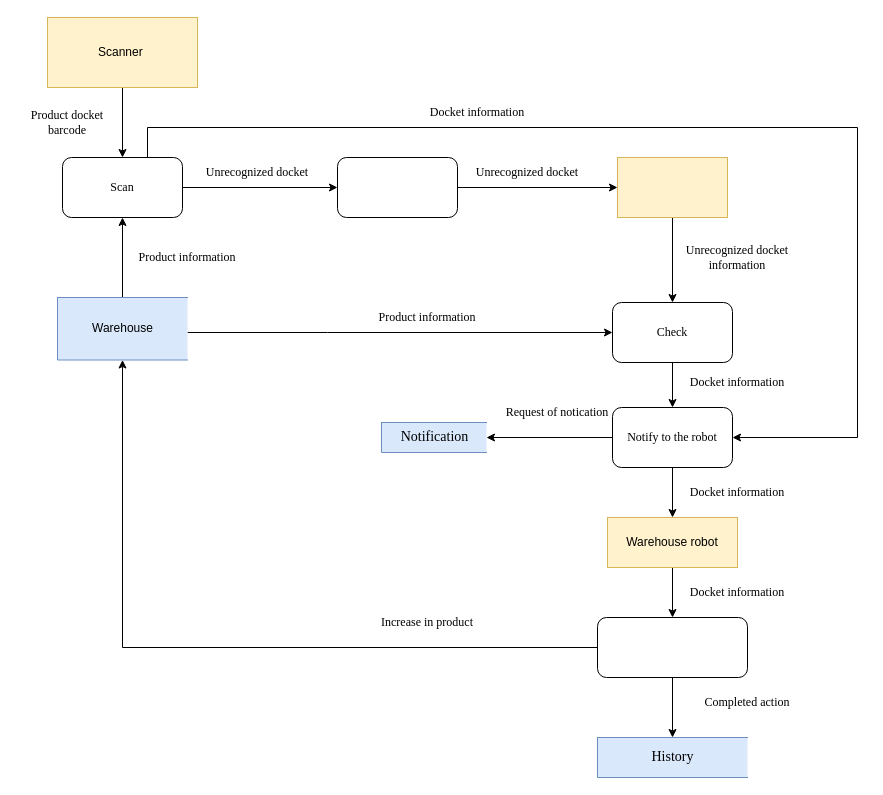
Image size: 883x795. Some labels were removed from this diagram. Each missing label, with the centre of its shape:
Fill docket on warehouse shelf: (672,647)
Notify: (397,187)
Technical Department: (672,187)
